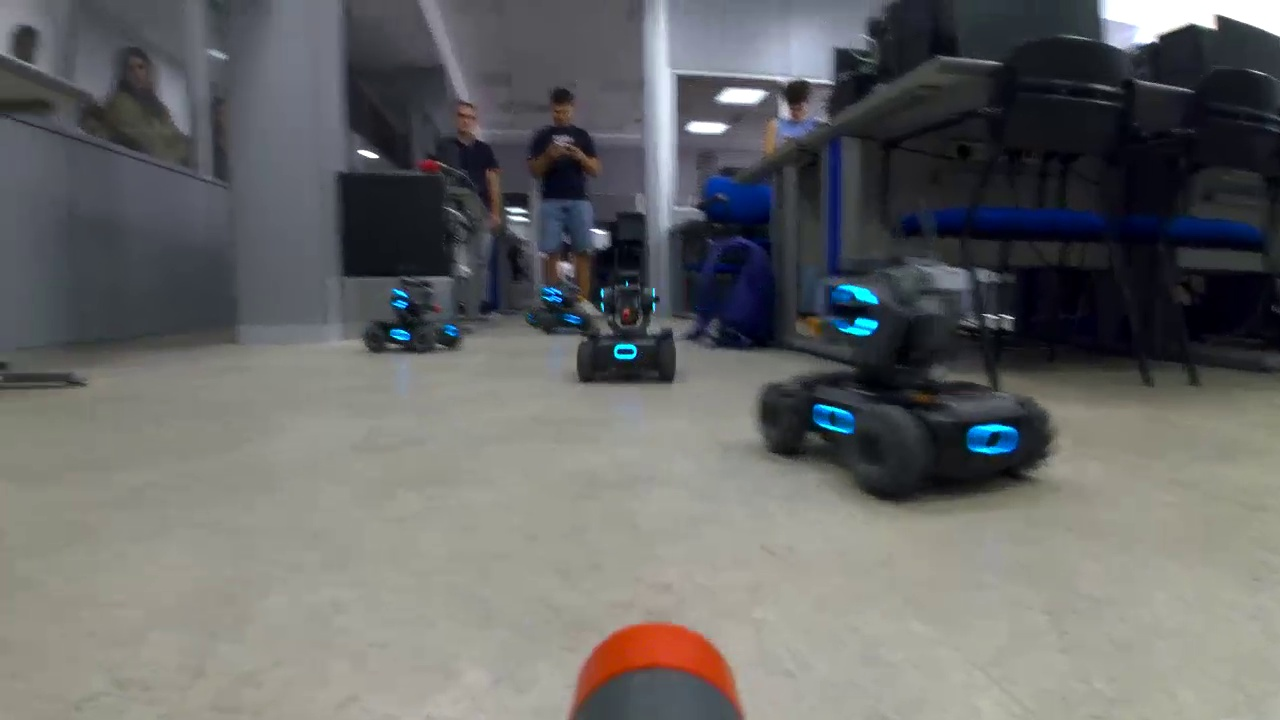robot: (755, 251, 1069, 509), (571, 272, 683, 387), (365, 273, 465, 361), (533, 282, 608, 341), (523, 283, 571, 328)
